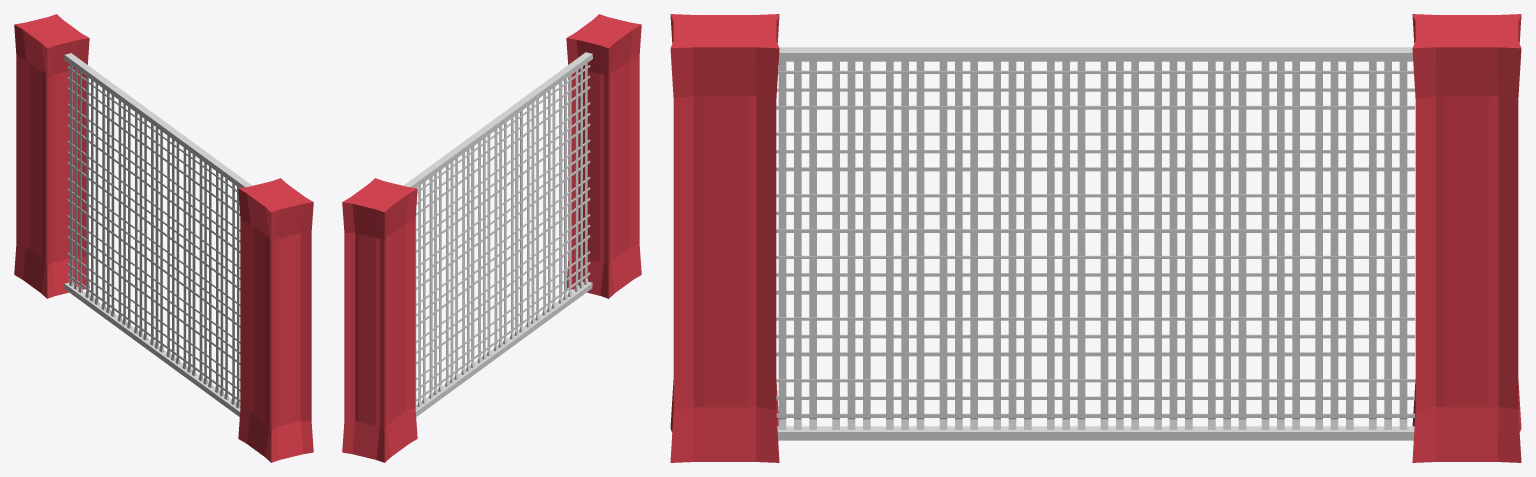
Rendered from Gate.fbx.
The picture shows the model from 3 angles, left to right: view 1: azimuth 30°, elevation 25°; view 2: azimuth 150°, elevation 25°; view 3: azimuth 270°, elevation 25°; orthographic projection. The views are drawn at different scales.
Visible parts, largest first — view 1: Gate; view 2: Gate; view 3: Gate.
Part boxes in pixels (x1=…): Gate: x1=14, y1=14, x2=313, y2=462; Gate: x1=342, y1=14, x2=641, y2=462; Gate: x1=670, y1=14, x2=1521, y2=462.
Size of the model in its own units: 186 by 1046 by 1945.
